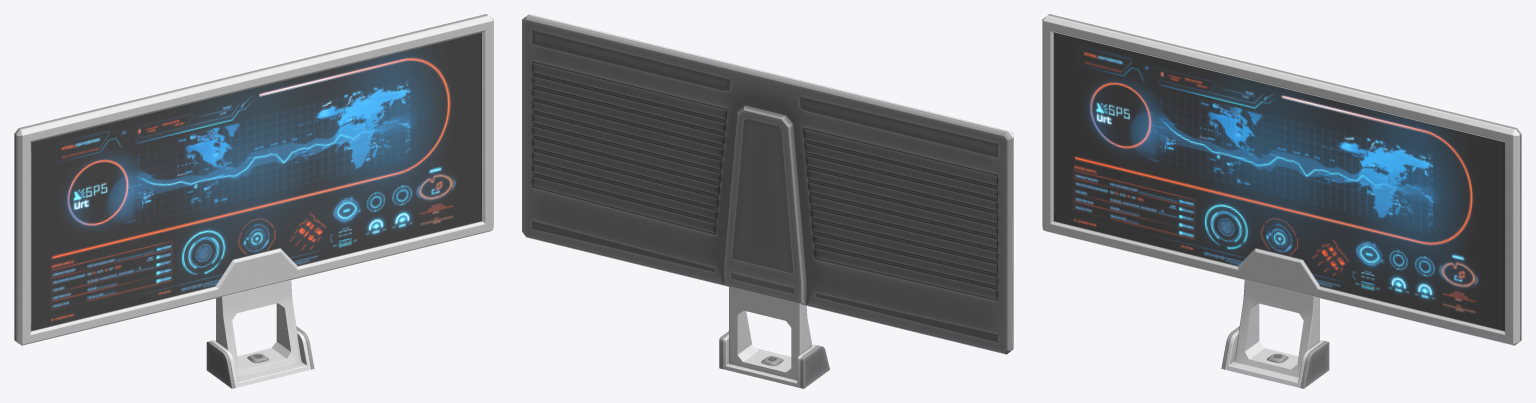
The model's file is Display05_1.FBX.
3 views of the same model, side by side, from view 1: azimuth 30°, elevation 25°; view 2: azimuth 150°, elevation 25°; view 3: azimuth 330°, elevation 25° (orthographic). The views are drawn at different scales.
Visible parts, largest first — view 1: Display05_1; view 2: Display05_1; view 3: Display05_1.
Part boxes in pixels (bbox=[...]): Display05_1: bbox=[14, 14, 493, 388]; Display05_1: bbox=[522, 14, 1013, 388]; Display05_1: bbox=[1042, 14, 1521, 388].
Size of what is drawn, in the model's own units: 1.19 by 0.6984 by 0.1108.
